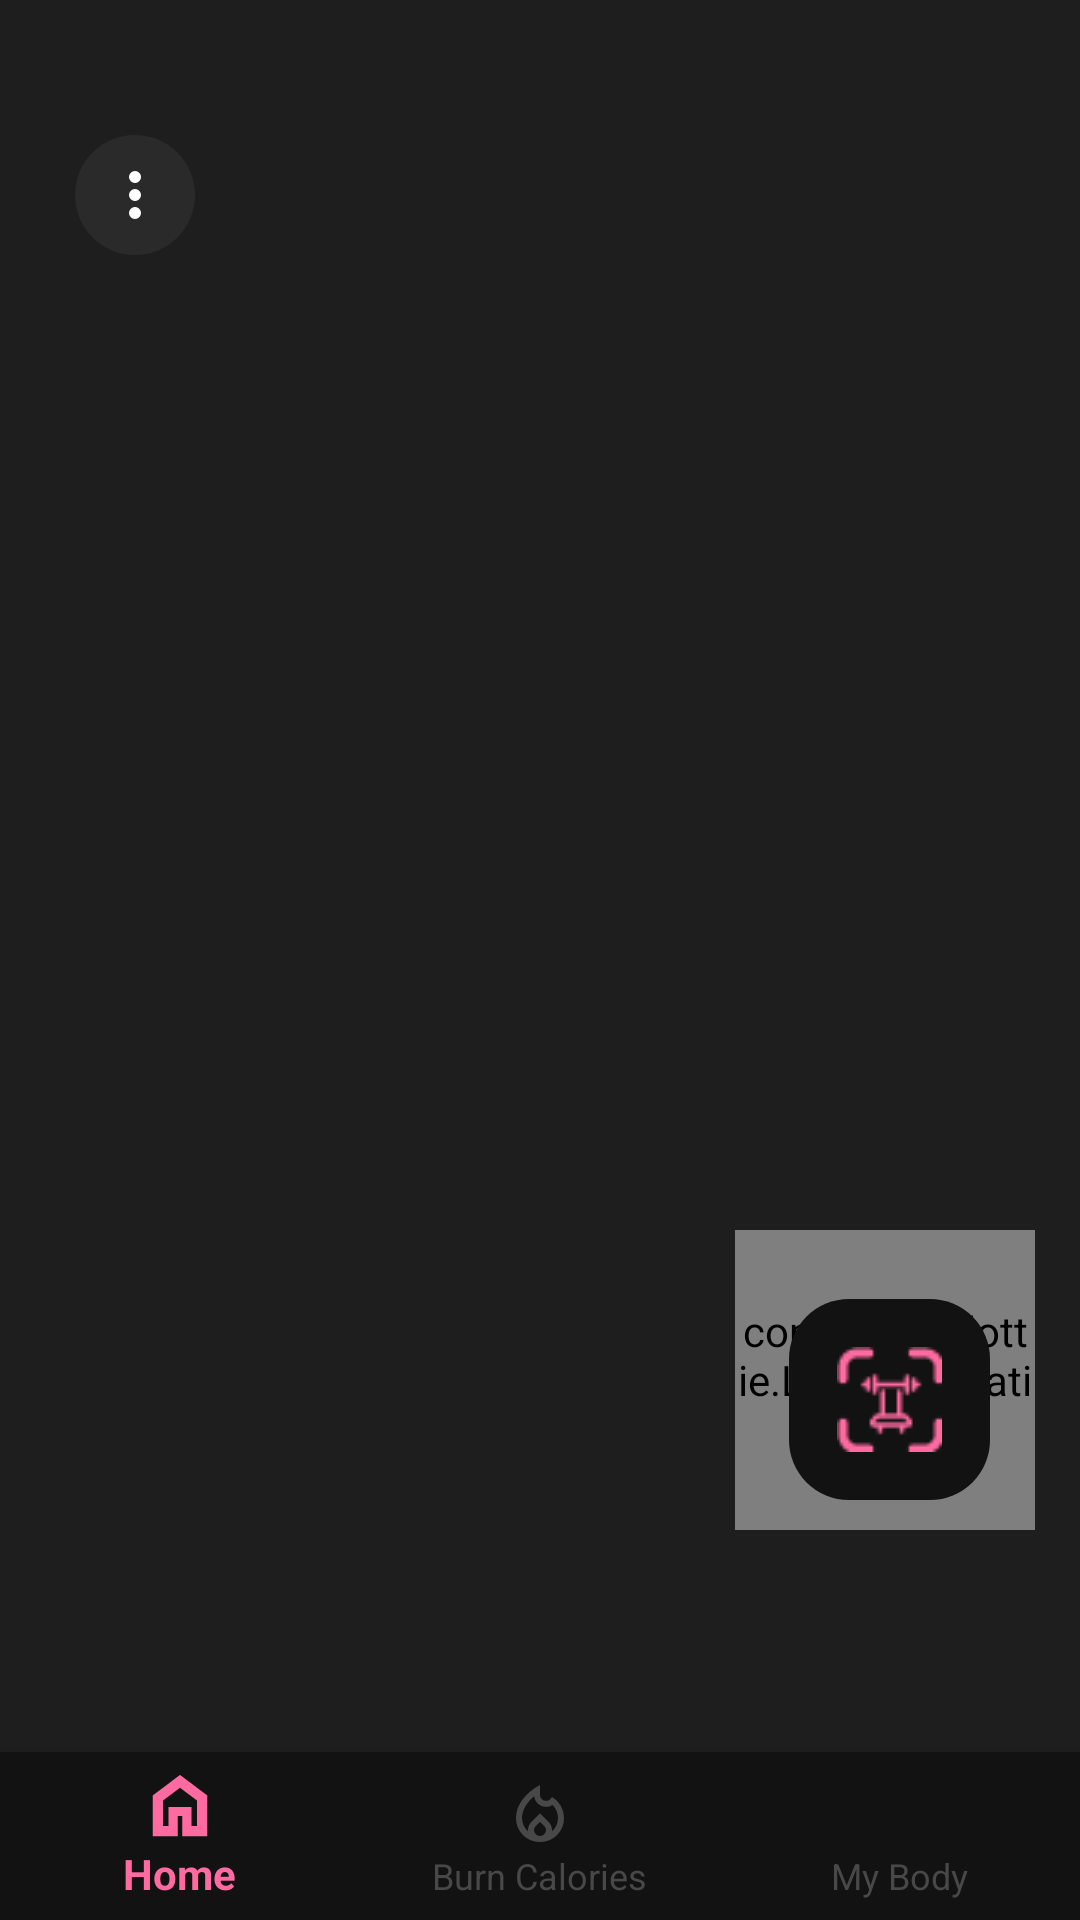

Icon bounding boxes for this 1080×1920 phone screenshot, format bbox=(x1, y1, x2, y2):
more vert: bbox=(129, 171, 141, 219)
scan equipment: bbox=(789, 1299, 990, 1500)
